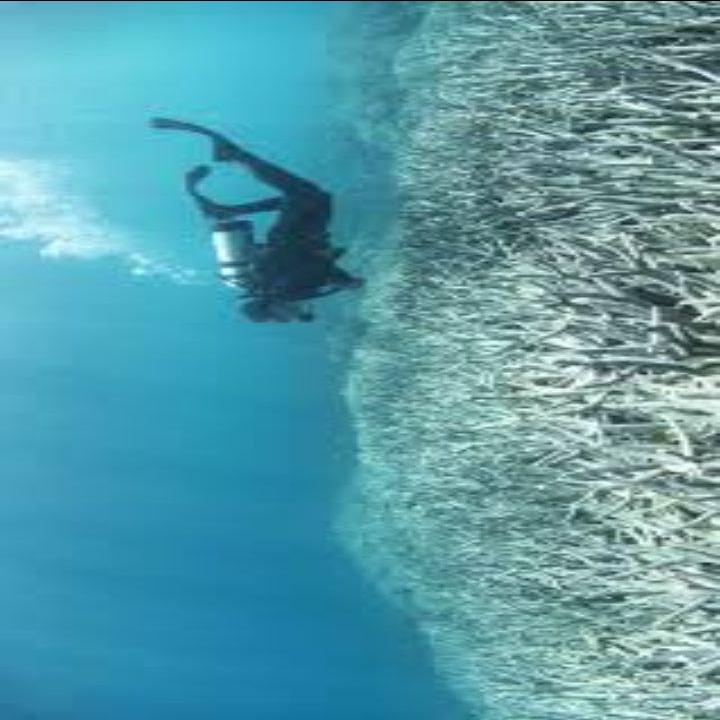Bleached disease: (423, 24, 684, 697)
